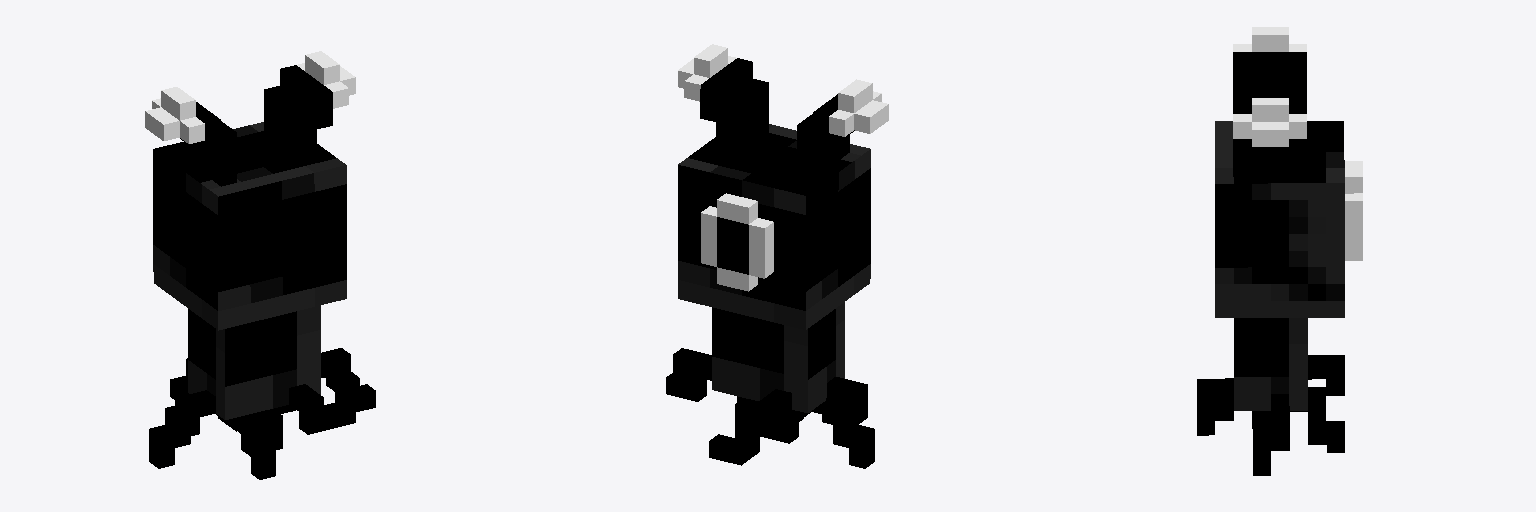
The picture shows the model from 3 angles: view 1: azimuth 30°, elevation 25°; view 2: azimuth 150°, elevation 25°; view 3: azimuth 270°, elevation 25°; orthographic projection.
Parts seen in each view (by area): view 1: cube; view 2: cube; view 3: cube.
Boxes of the visible parts, x1,y1,x2,y2 form: cube: [145, 51, 375, 479]; cube: [666, 44, 888, 468]; cube: [1197, 27, 1362, 475].
Size of the model in its own units: 13.29 by 22.02 by 8.99.
Materials: 1 (1 with a texture image).